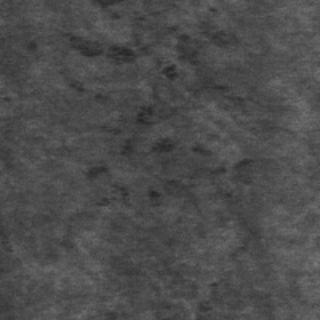rolled pit: (67, 36, 187, 204)
